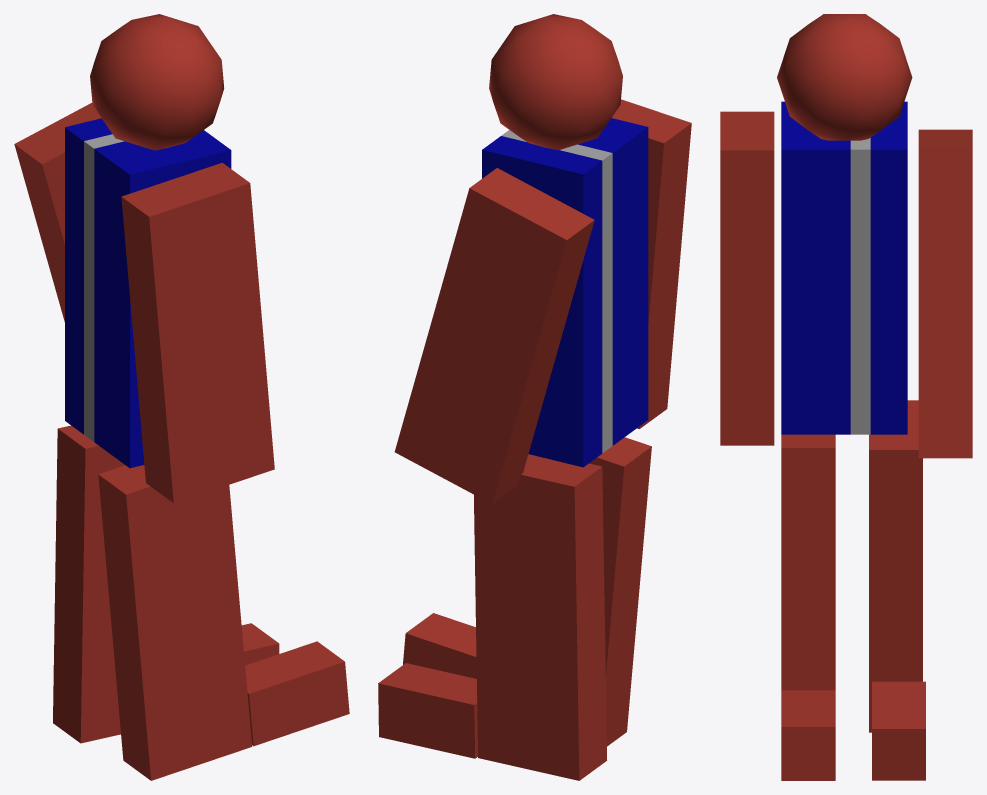
File: player_000040.obj
3 views of the same model, side by side, from view 1: azimuth 30°, elevation 25°; view 2: azimuth 150°, elevation 25°; view 3: azimuth 270°, elevation 25° (orthographic). The views are drawn at different scales.
Visible parts, largest first — view 1: Cube.005, Cube.001, Cube, Cube.002, Icosphere, Cube.003, Cube.006, Cube.004; view 2: Cube.006, Cube.002, Cube, Icosphere, Cube.001, Cube.005, Cube.004, Cube.003; view 3: Cube, Cube.005, Cube.006, Cube.001, Cube.002, Icosphere, Cube.004, Cube.003.
Boxes of the visible parts, x1=… form: Cube.005: x1=121, y1=162, x2=274, y2=503; Cube.001: x1=98, y1=465, x2=252, y2=780; Cube: x1=65, y1=118, x2=231, y2=468; Cube.002: x1=53, y1=425, x2=124, y2=743; Icosphere: x1=90, y1=14, x2=224, y2=150; Cube.003: x1=245, y1=641, x2=349, y2=746; Cube.006: x1=14, y1=103, x2=101, y2=321; Cube.004: x1=241, y1=623, x2=279, y2=665; Cube.006: x1=394, y1=168, x2=594, y2=503; Cube.002: x1=474, y1=454, x2=606, y2=780; Cube: x1=482, y1=118, x2=648, y2=467; Icosphere: x1=489, y1=14, x2=622, y2=150; Cube.001: x1=589, y1=437, x2=651, y2=746; Cube.005: x1=611, y1=99, x2=691, y2=428; Cube.004: x1=378, y1=663, x2=477, y2=758; Cube.003: x1=403, y1=613, x2=476, y2=678; Cube: x1=781, y1=101, x2=907, y2=434; Cube.005: x1=720, y1=111, x2=774, y2=445; Cube.006: x1=918, y1=129, x2=972, y2=458; Cube.001: x1=781, y1=434, x2=835, y2=690; Cube.002: x1=869, y1=400, x2=922, y2=732; Icosphere: x1=777, y1=14, x2=912, y2=140; Cube.004: x1=872, y1=681, x2=925, y2=780; Cube.003: x1=781, y1=690, x2=835, y2=780.
Bounding box in the file's own units: 0.9612 × 2.82 × 0.9137.
